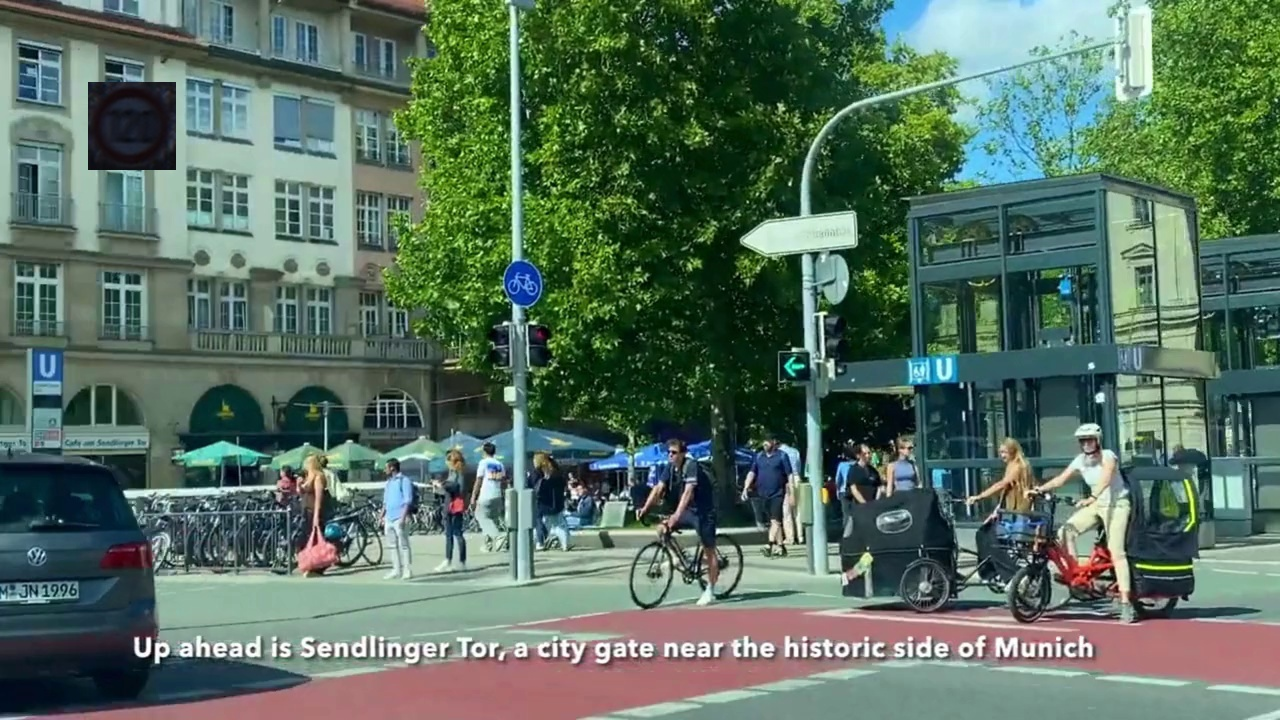Speed 120: (88, 82, 176, 170)
